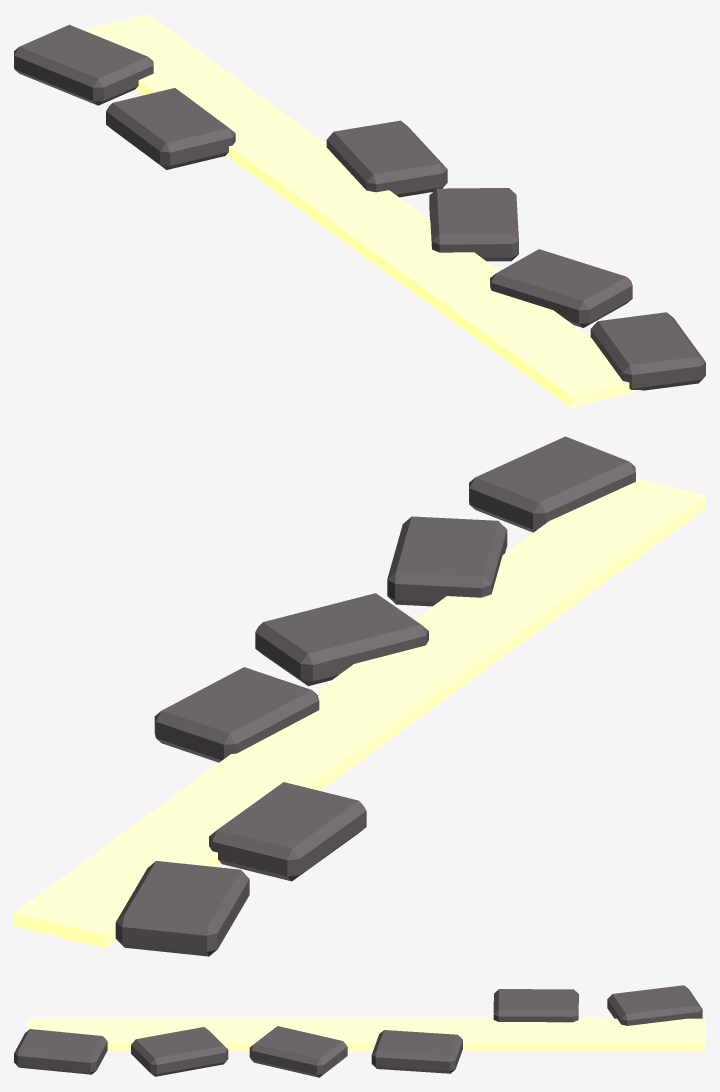
The model's file is ENV_Ember_LavaFissure.fbx.
3 renders of one model, top to bottom at view 1: azimuth 30°, elevation 25°; view 2: azimuth 150°, elevation 25°; view 3: azimuth 270°, elevation 25°, orthographic. The views are drawn at different scales.
Parts seen in each view (by area): view 1: ENV_Ember_LavaFissure; view 2: ENV_Ember_LavaFissure; view 3: ENV_Ember_LavaFissure.
Part boxes in pixels (box(x1,y1,x2,y2)): ENV_Ember_LavaFissure: box(14, 14, 705, 407); ENV_Ember_LavaFissure: box(14, 436, 705, 956); ENV_Ember_LavaFissure: box(14, 985, 705, 1077).
Size of the model in its own units: 1.09 by 0.12 by 4.08.
